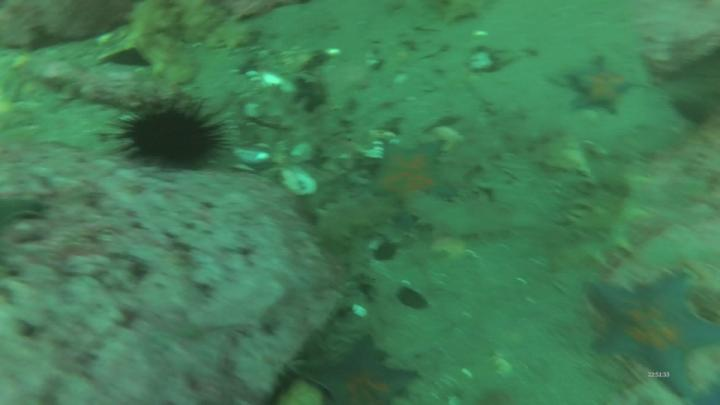echinus: (121, 111, 217, 166)
holothurian: (567, 172, 655, 278), (441, 122, 550, 182), (397, 198, 531, 236), (312, 197, 398, 233)
starfish: (584, 275, 719, 397), (291, 343, 416, 405), (375, 146, 452, 204), (568, 60, 637, 116)
